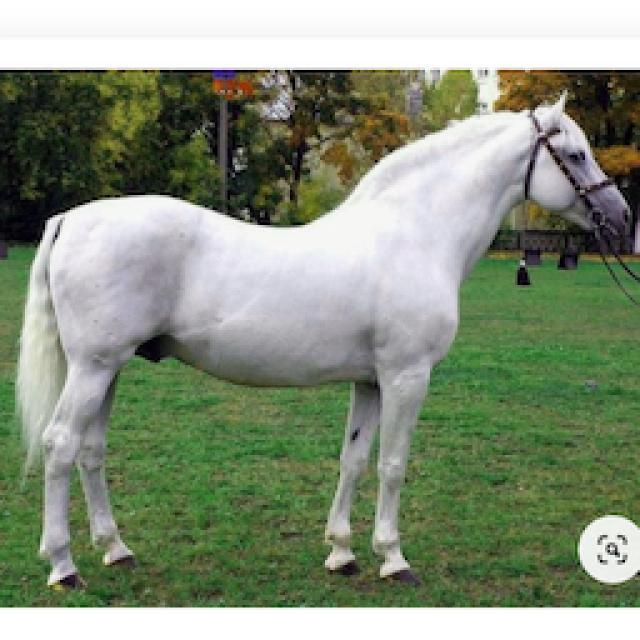Horse: (2, 85, 638, 593)
